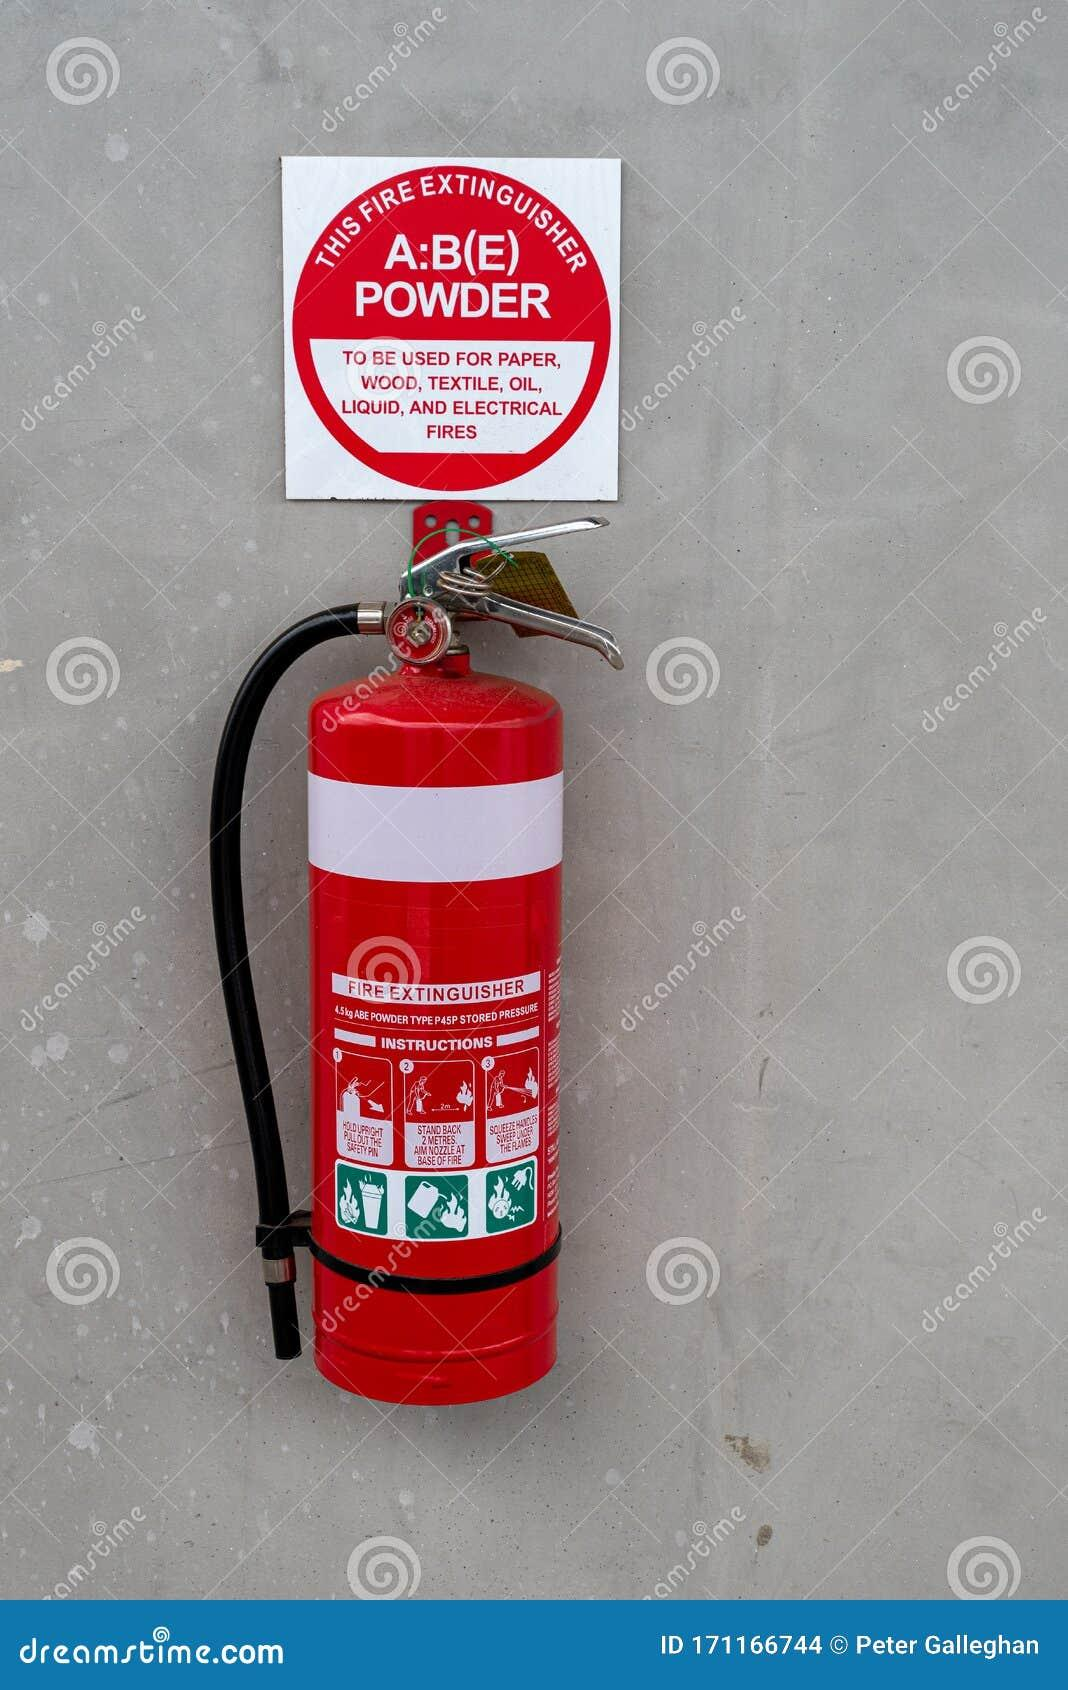wall-mounted: (92, 494, 751, 1445)
